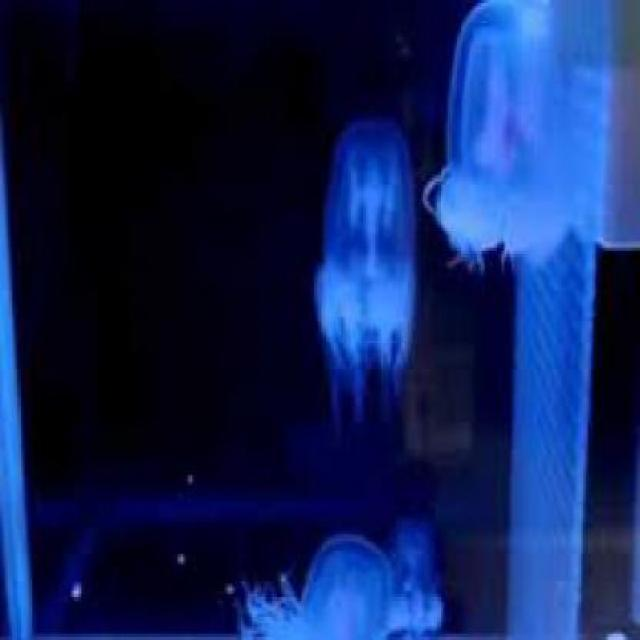Jellyfish: (307, 109, 418, 422)
